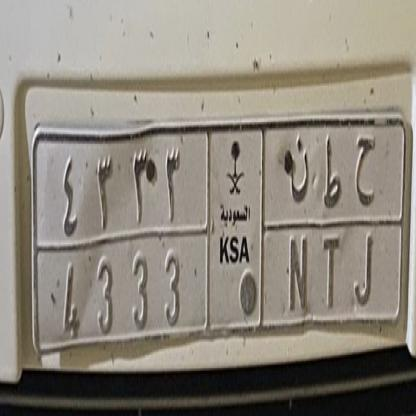english: (21, 239, 409, 343)
